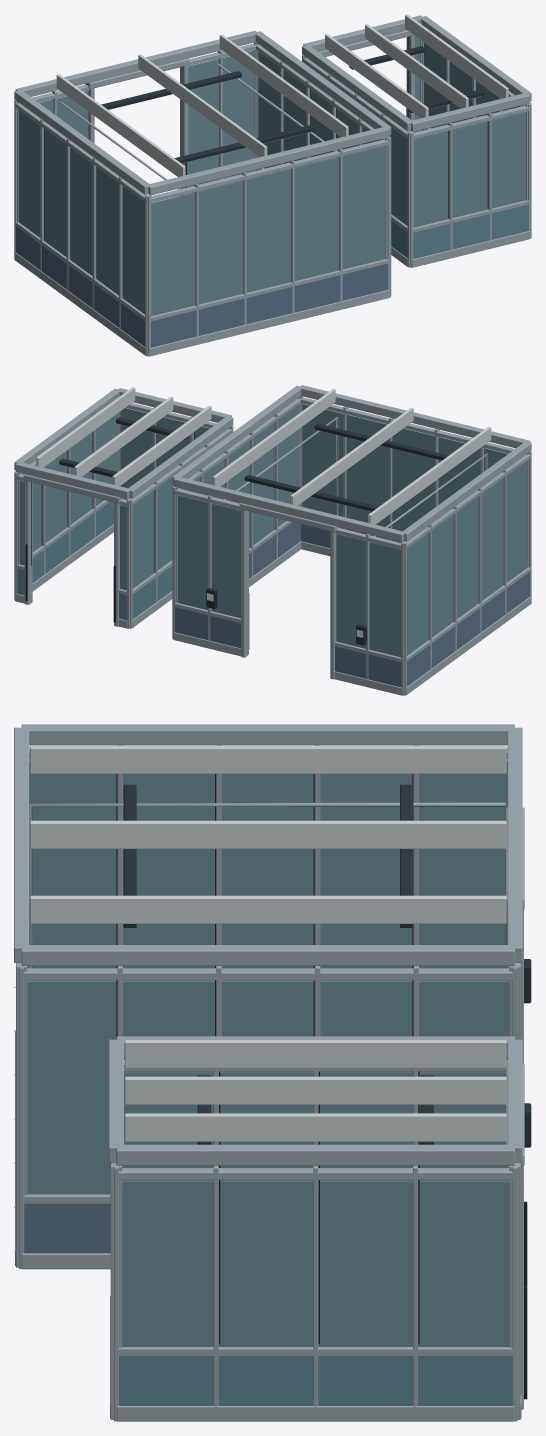
The model's file is SF_S01_Interior.fbx.
The picture shows the model from 3 angles, top to bottom: view 1: azimuth 30°, elevation 25°; view 2: azimuth 150°, elevation 25°; view 3: azimuth 270°, elevation 25°; orthographic projection. The views are drawn at different scales.
Parts seen in each view (by area): view 1: SF_S01_Interior; view 2: SF_S01_Interior; view 3: SF_S01_Interior.
Boxes of the visible parts, bbox=[...] form: SF_S01_Interior: bbox=[14, 14, 531, 356]; SF_S01_Interior: bbox=[14, 385, 531, 695]; SF_S01_Interior: bbox=[14, 724, 531, 1421].
Bounding box in the file's own units: 946 × 389 × 546.
